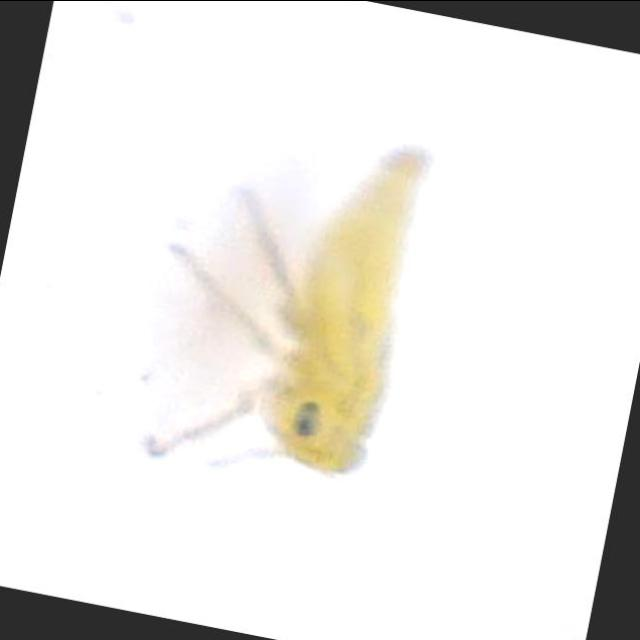green leaf hopper: (148, 149, 429, 473)
